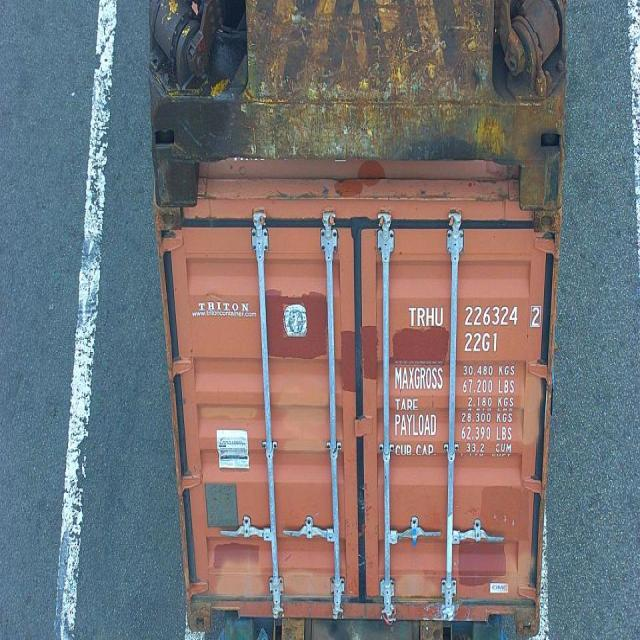ISO: (462, 332, 500, 356)
container_number: (406, 299, 542, 334)
